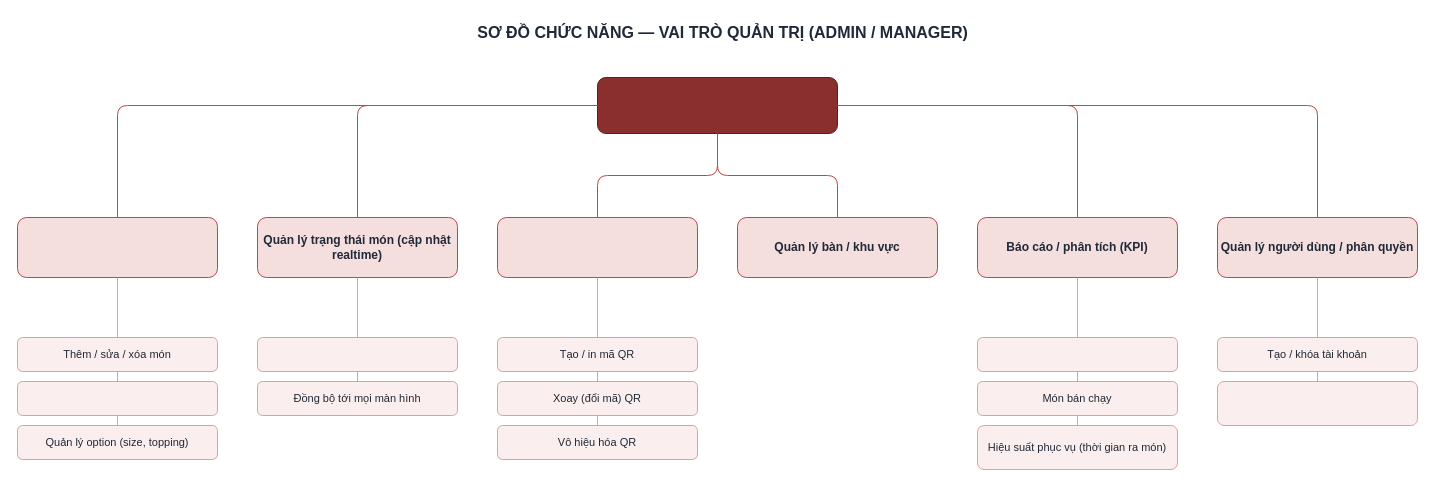
Image size: 1445x487. Some labels were removed from this diagram. Here are the shapes that lost their labels. From the top down, the centre of each, then its label:
At [717,105]: "Quản trị (Admin / Manager)".
At [117,247]: "Quản lý menu (món, danh mục, option)".
At [597,247]: "Quản lý QR theo bàn".
At [357,354]: "Bật / tắt món (còn / hết hàng)".
At [1077,354]: "Doanh thu theo ngày / bàn".
At [117,398]: "Quản lý danh mục".
At [1317,403]: "Gán vai trò (phục vụ, bếp, thu ngân...)".
